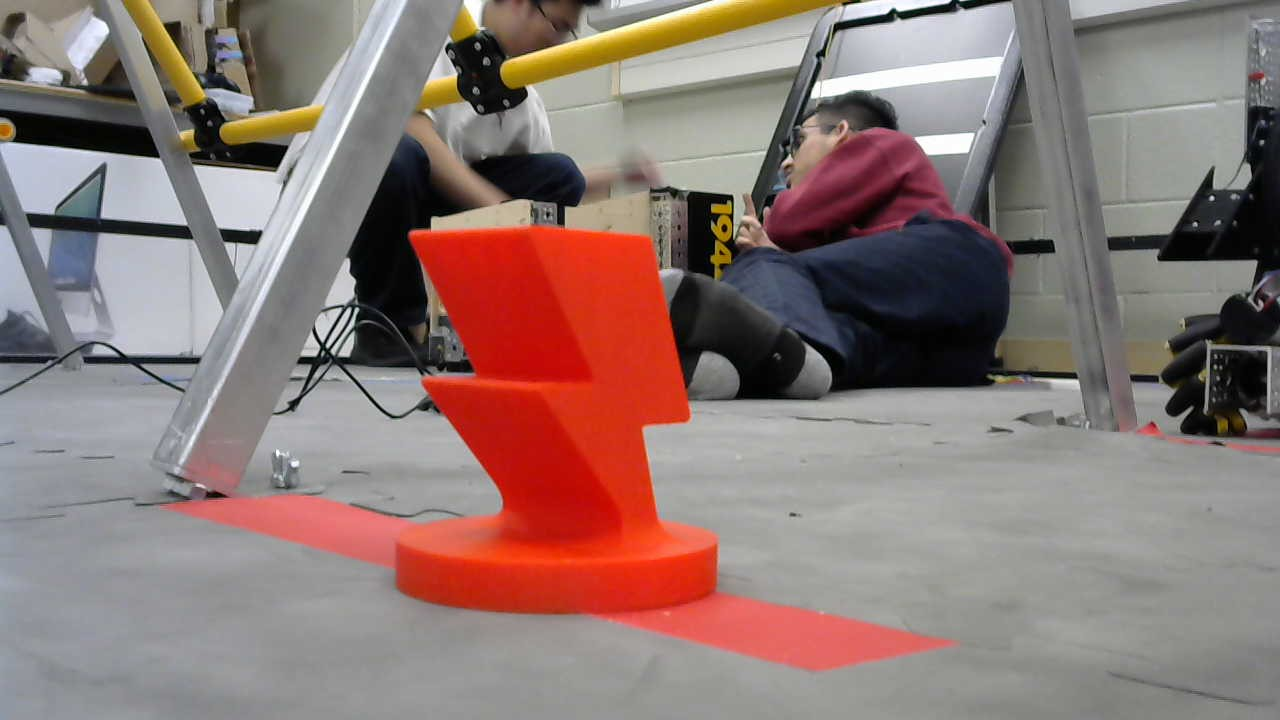redobject: (395, 224, 723, 620)
